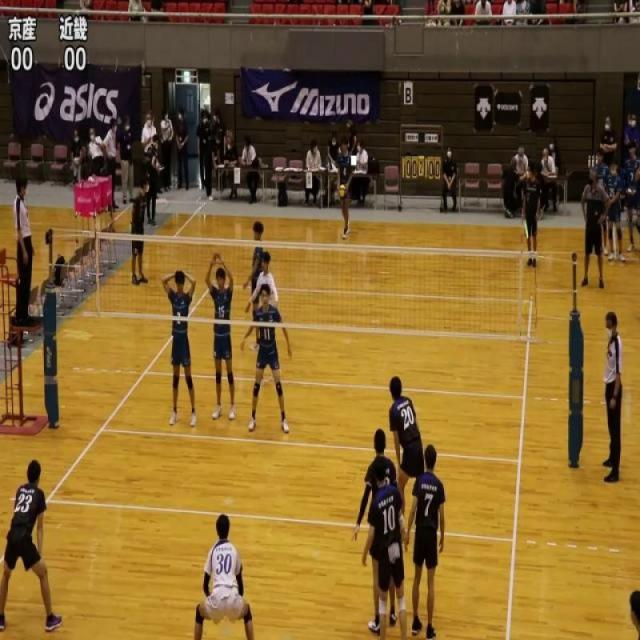volleyball: (338, 184, 346, 198)
